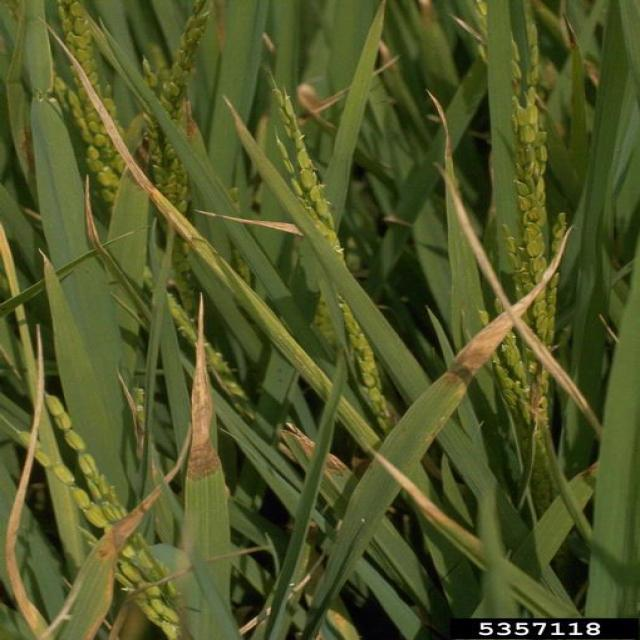Bacterial leaf blight: (422, 156, 607, 436), (4, 327, 134, 640), (51, 28, 212, 240), (411, 0, 615, 94), (361, 437, 491, 565), (169, 284, 248, 492), (260, 67, 401, 128), (234, 208, 353, 248)
